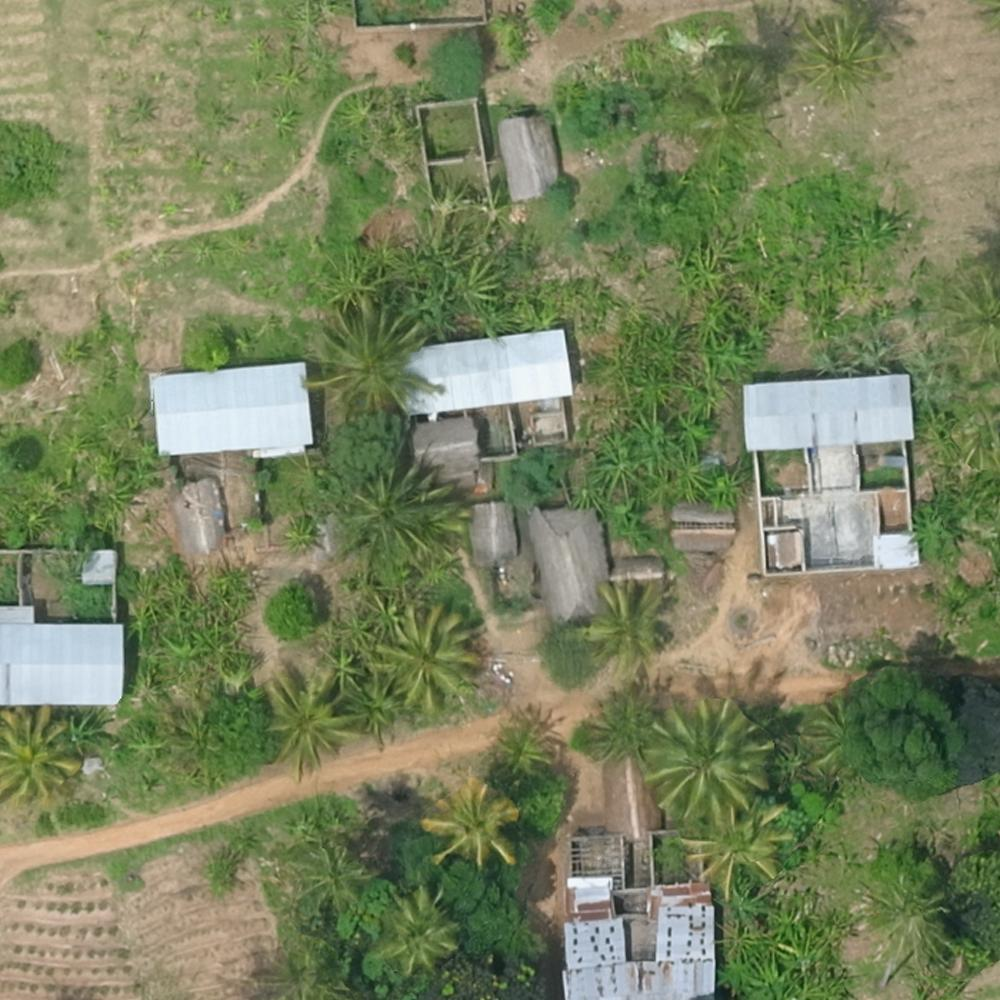Palm: (340, 457, 463, 578), (648, 700, 766, 818), (315, 306, 437, 414), (371, 607, 478, 714), (264, 664, 362, 771), (692, 796, 790, 894), (860, 873, 954, 964), (788, 11, 884, 96), (1, 705, 85, 799), (424, 775, 510, 866), (376, 888, 459, 974), (583, 584, 670, 665)
